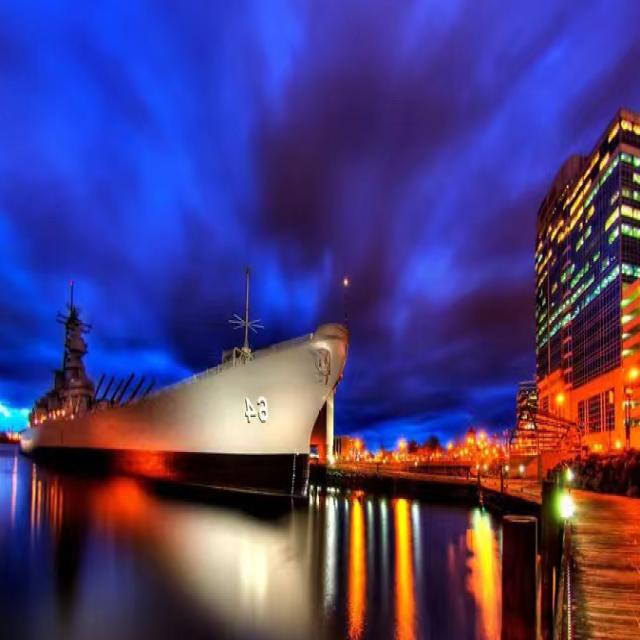navalvessels: (16, 286, 360, 494)
